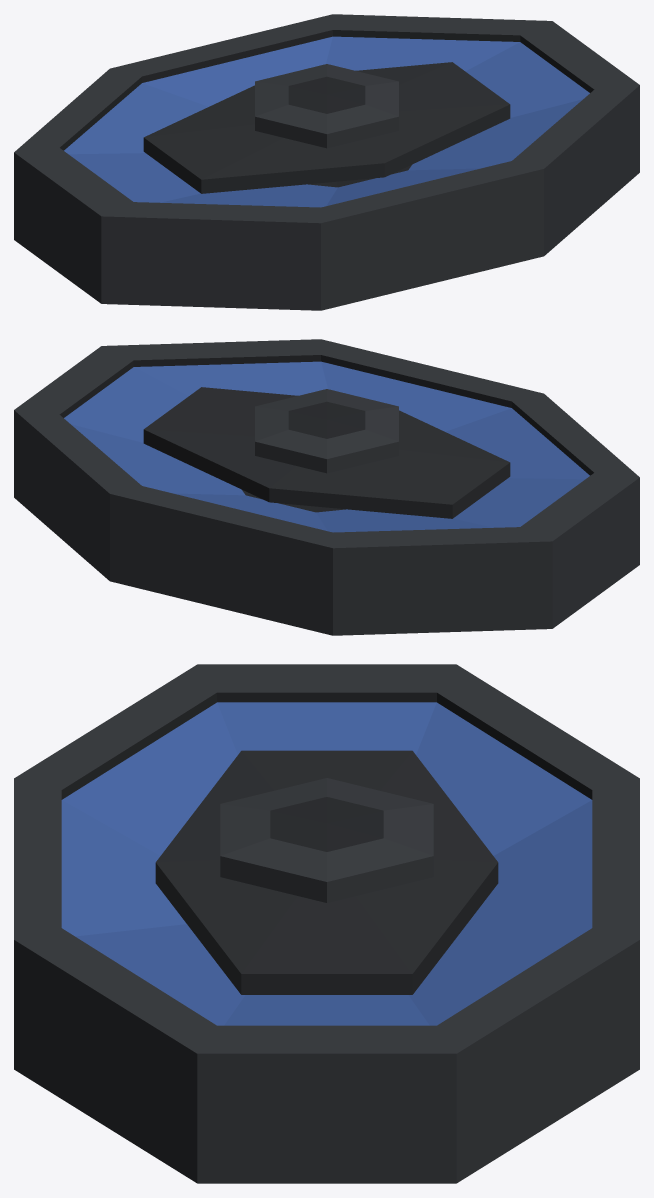
Rendered from SM_Prop_SpeakerOval_Flat_01.fbx.
The picture shows the model from 3 angles, top to bottom: view 1: azimuth 30°, elevation 25°; view 2: azimuth 150°, elevation 25°; view 3: azimuth 270°, elevation 25°; orthographic projection. The views are drawn at different scales.
Parts seen in each view (by area): view 1: SM_Prop_SpeakerOval_Flat_01; view 2: SM_Prop_SpeakerOval_Flat_01; view 3: SM_Prop_SpeakerOval_Flat_01.
Part boxes in pixels (x1,y1,x2,y2): SM_Prop_SpeakerOval_Flat_01: (14,14,639,310); SM_Prop_SpeakerOval_Flat_01: (14,339,639,635); SM_Prop_SpeakerOval_Flat_01: (14,664,639,1183).
Bounding box in the file's own units: 42.24 × 8.39 × 28.7.
